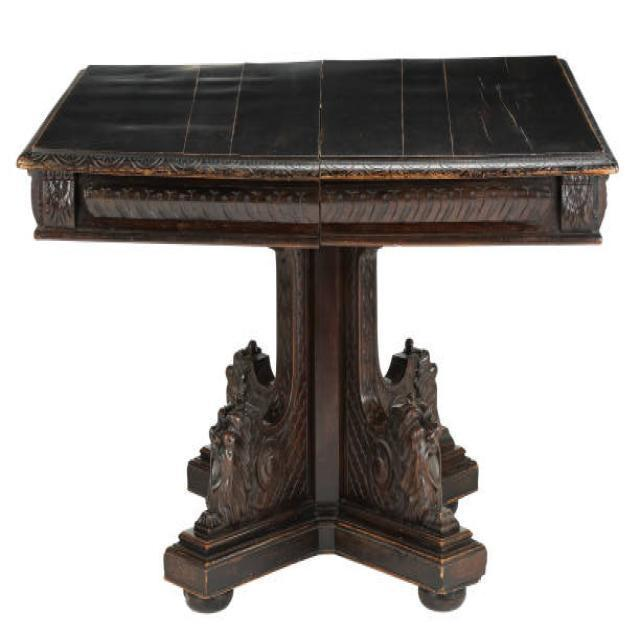table: (16, 54, 620, 613)
